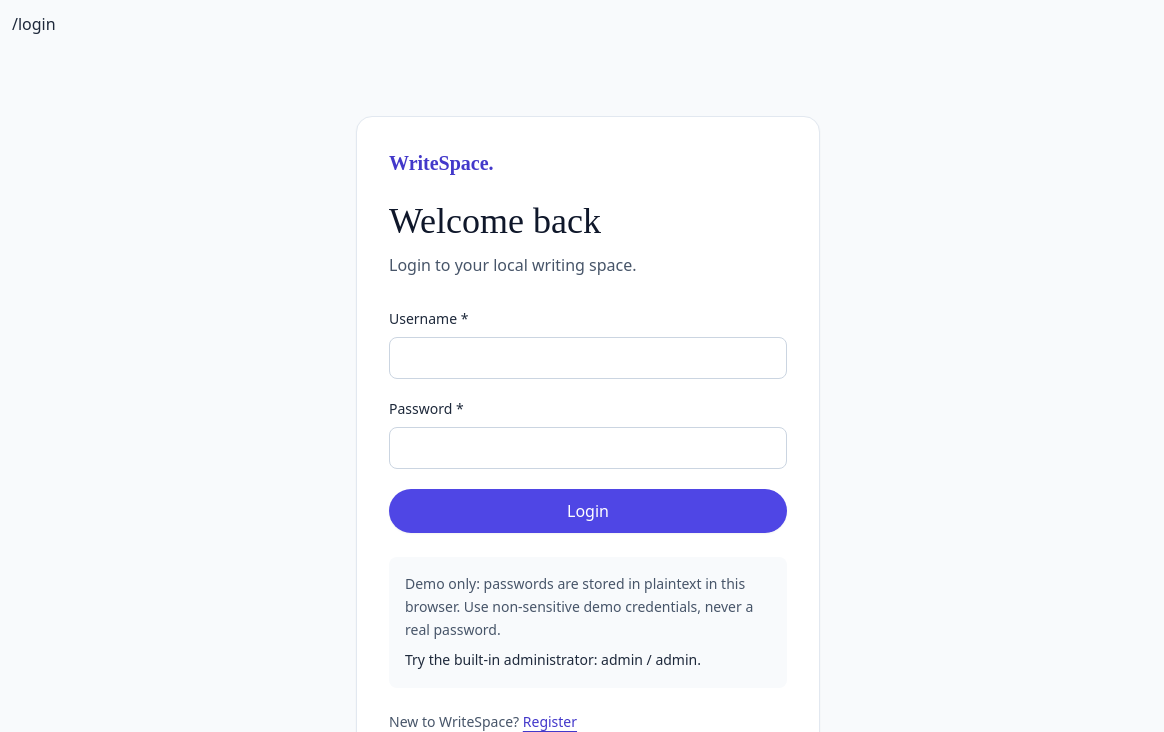
Test: LoginPage › does not refresh or navigate when writing the session fails
Type "admin" into the field labelled "Username".
click(588, 358); type("admin")  # box x1=389 y1=337 x2=787 y2=379
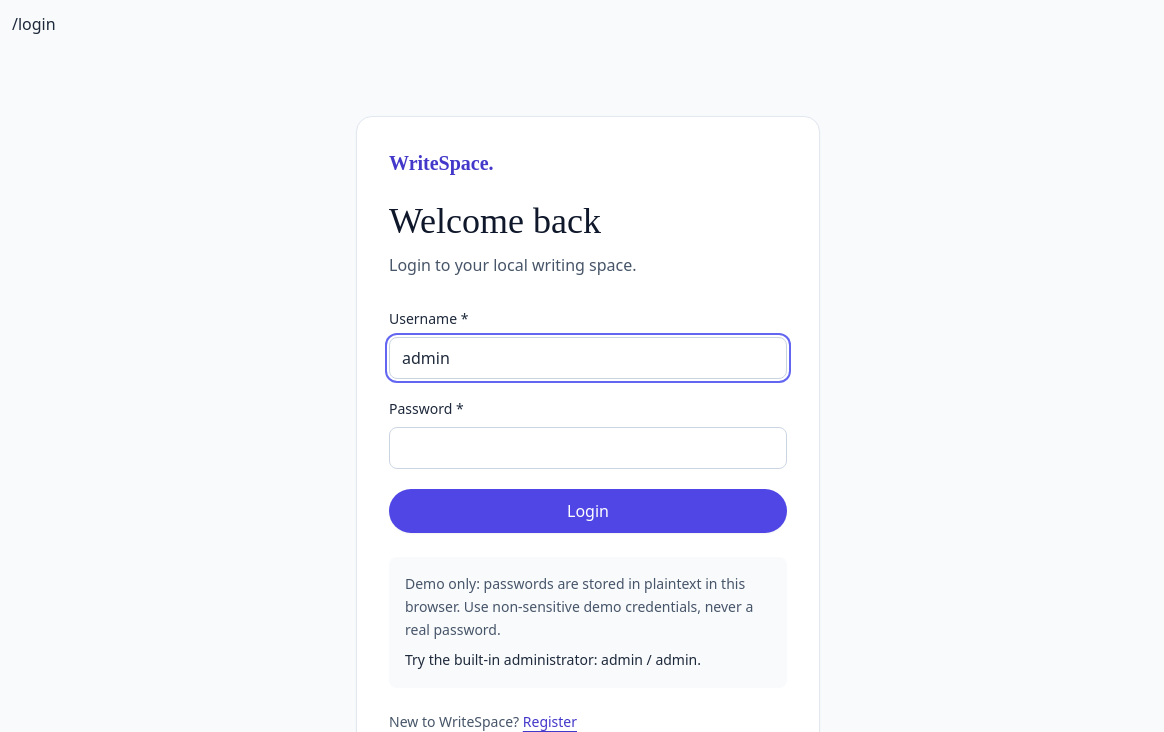
Type "admin" into the password field labelled "Password".
click(588, 448); type("admin")  # box x1=389 y1=427 x2=787 y2=469
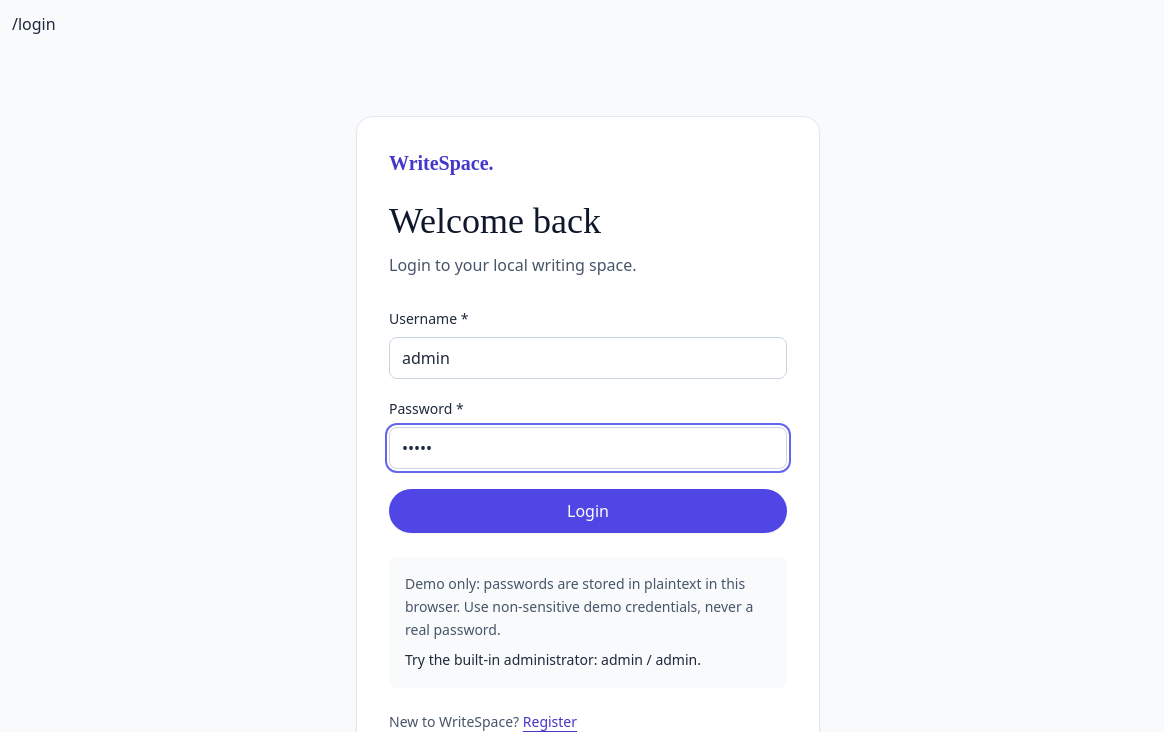
Click the button "Login".
click(588, 511)  # box x1=389 y1=489 x2=787 y2=533
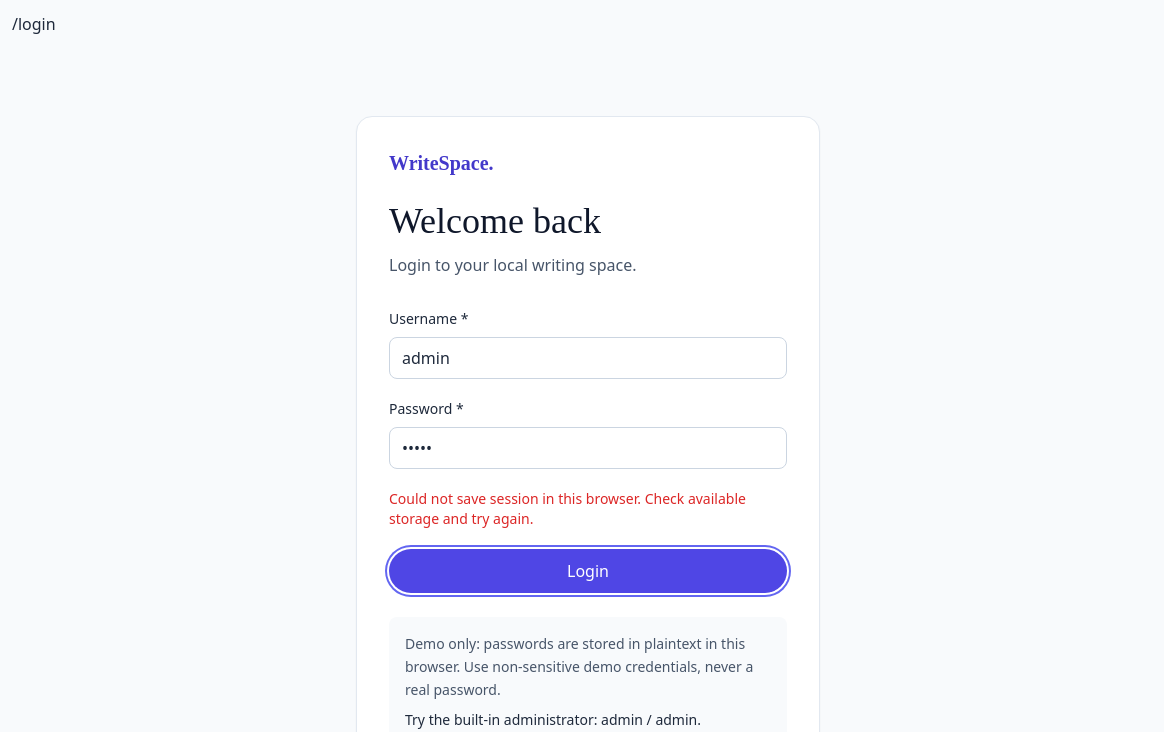
Expected: the text named "Current route" reads "/login", x1=12 y1=13 x2=56 y2=35
Result: the message shows "Could not save session in this browser." at x1=389 y1=489 x2=746 y2=528
